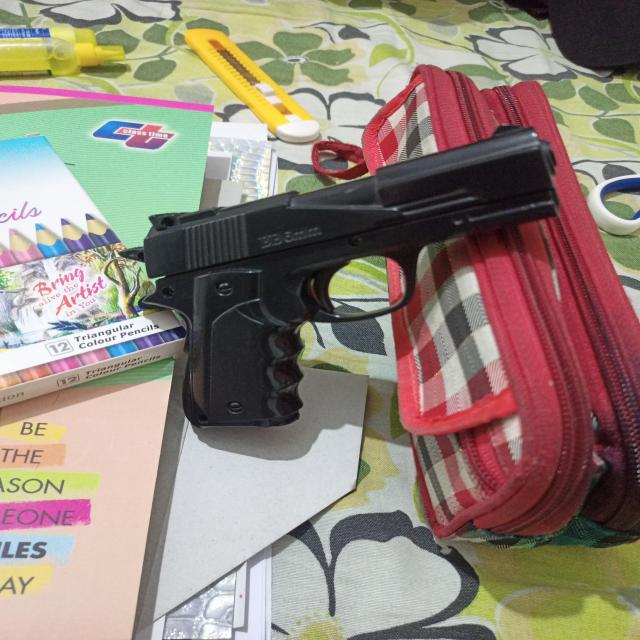handgun: (118, 126, 566, 433)
